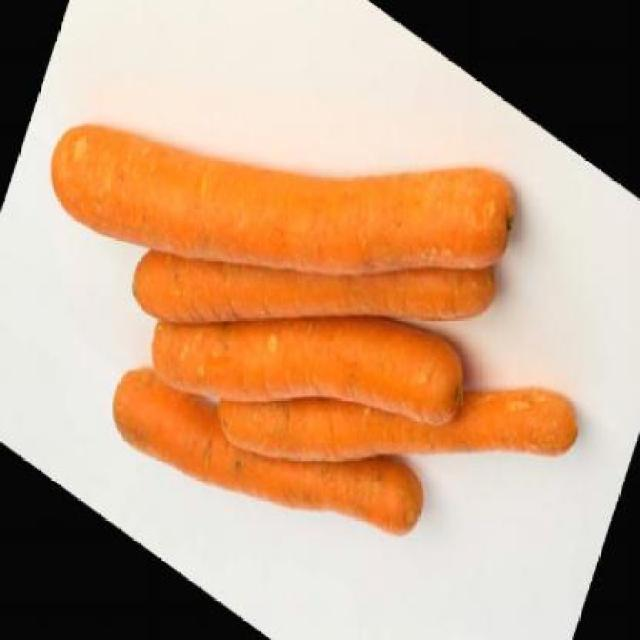carrot: (38, 0, 522, 477), (124, 57, 499, 512), (209, 191, 583, 638), (140, 162, 475, 560), (103, 277, 429, 628)
